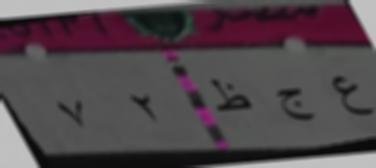2: (128, 88, 164, 132)
7: (53, 94, 95, 136)
Thaa: (208, 69, 251, 123)
ain: (331, 68, 374, 124)
jeem: (275, 82, 320, 130)
